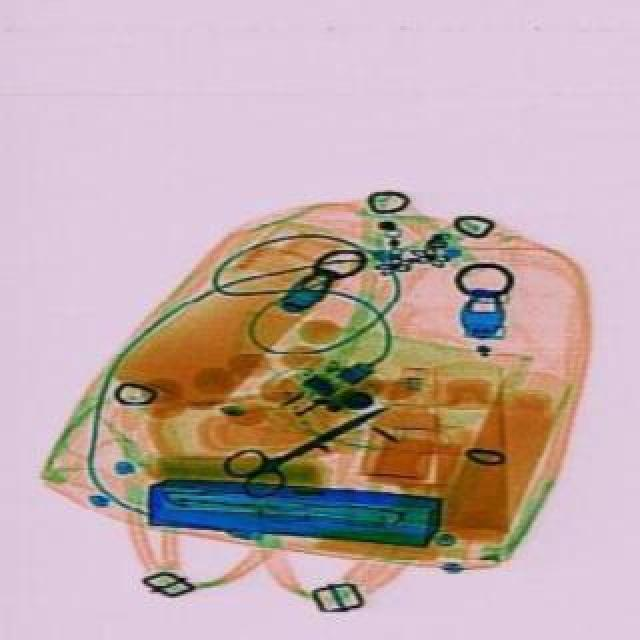pliers: (216, 382, 400, 506)
